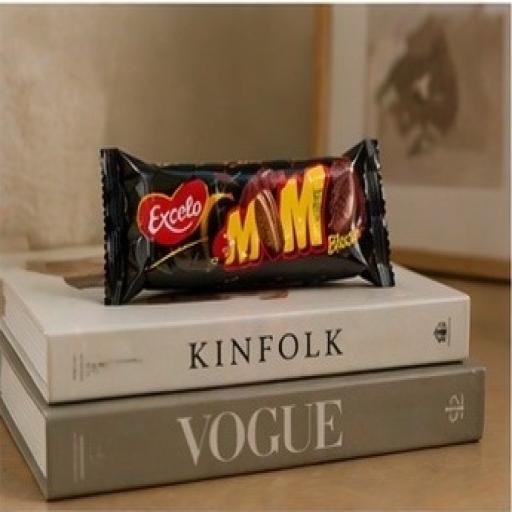MOMO: (69, 104, 438, 375)
